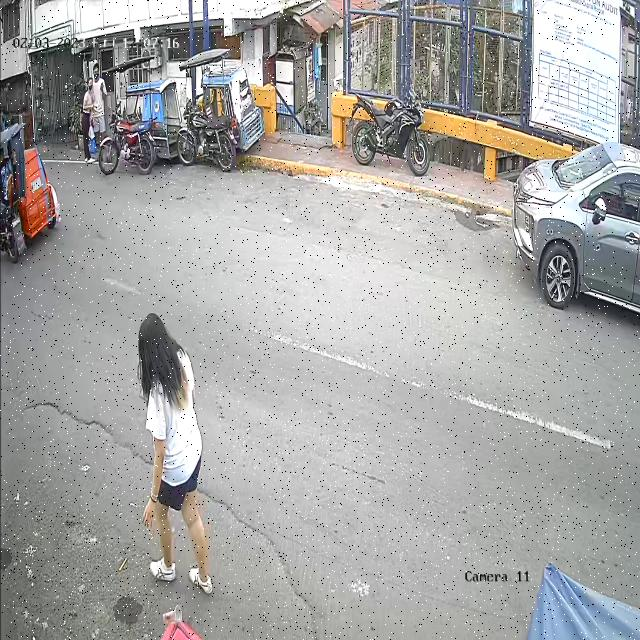human: (137, 313, 213, 625), (82, 77, 97, 164)
trash: (155, 597, 187, 630)
